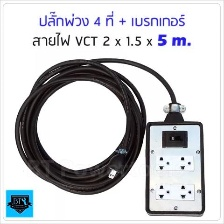three_eye_plug: (143, 119, 205, 217)
